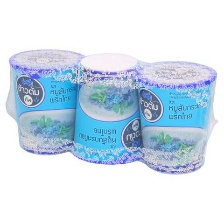paper_cup: (65, 46, 153, 169), (134, 55, 220, 178), (3, 42, 89, 159)
